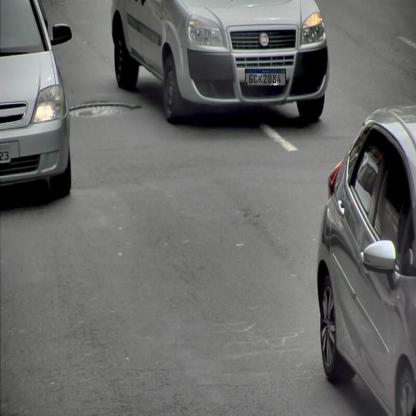PlacaM: (245, 69, 286, 86)
